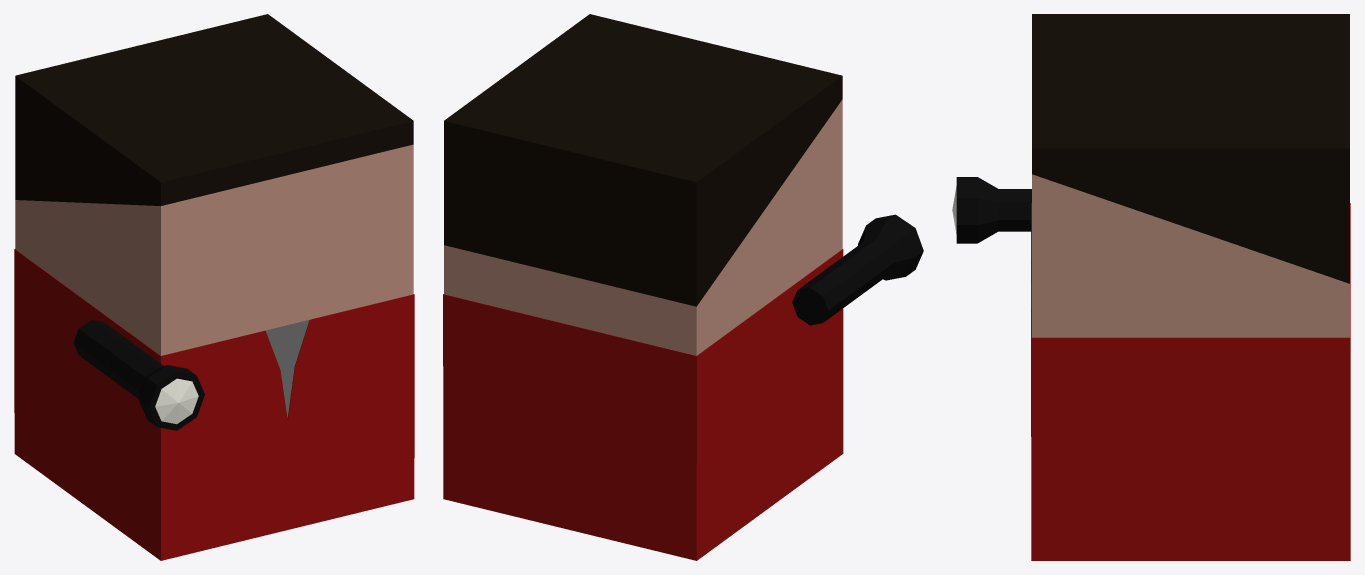
File: c_survivor.FBX
3 renders of one model, left to right at view 1: azimuth 30°, elevation 25°; view 2: azimuth 150°, elevation 25°; view 3: azimuth 270°, elevation 25°, orthographic. The views are drawn at different scales.
Visible parts, largest first — view 1: c_survivor, p_flashlight; view 2: c_survivor, p_flashlight; view 3: c_survivor, p_flashlight.
Boxes of the visible parts, bbox=[...] form: c_survivor: bbox=[14, 14, 414, 560]; p_flashlight: bbox=[73, 320, 204, 430]; c_survivor: bbox=[443, 14, 843, 560]; p_flashlight: bbox=[792, 214, 923, 325]; c_survivor: bbox=[1031, 14, 1350, 560]; p_flashlight: bbox=[952, 177, 1031, 243].
Size of the model in its own units: 0.8311 by 1 by 0.8767.
